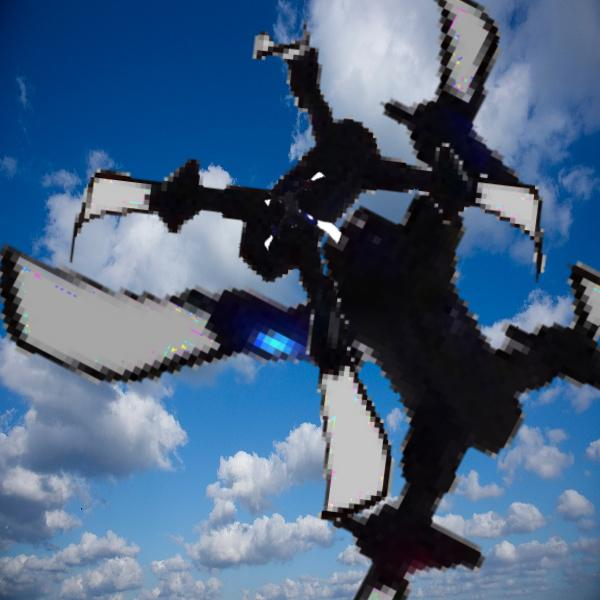drone: (49, 12, 572, 535), (253, 173, 355, 275)
